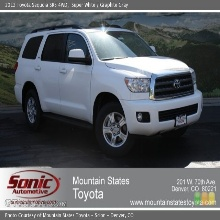no damage: (13, 24, 202, 155)
